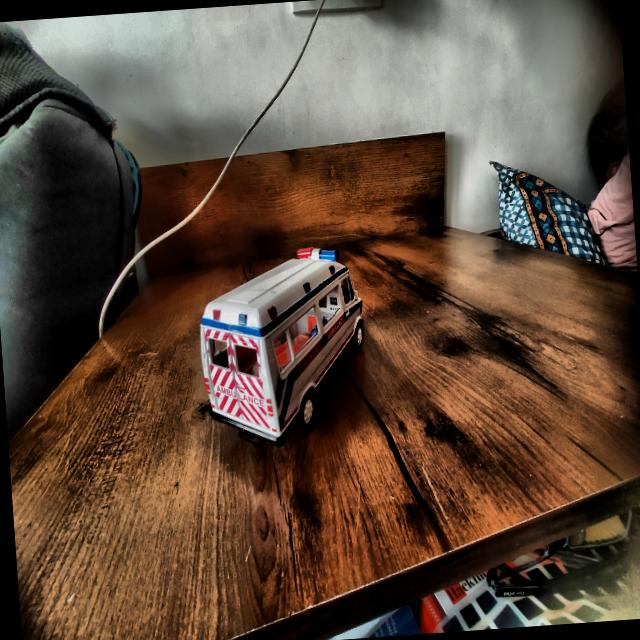Ambulance: (194, 245, 370, 444)
